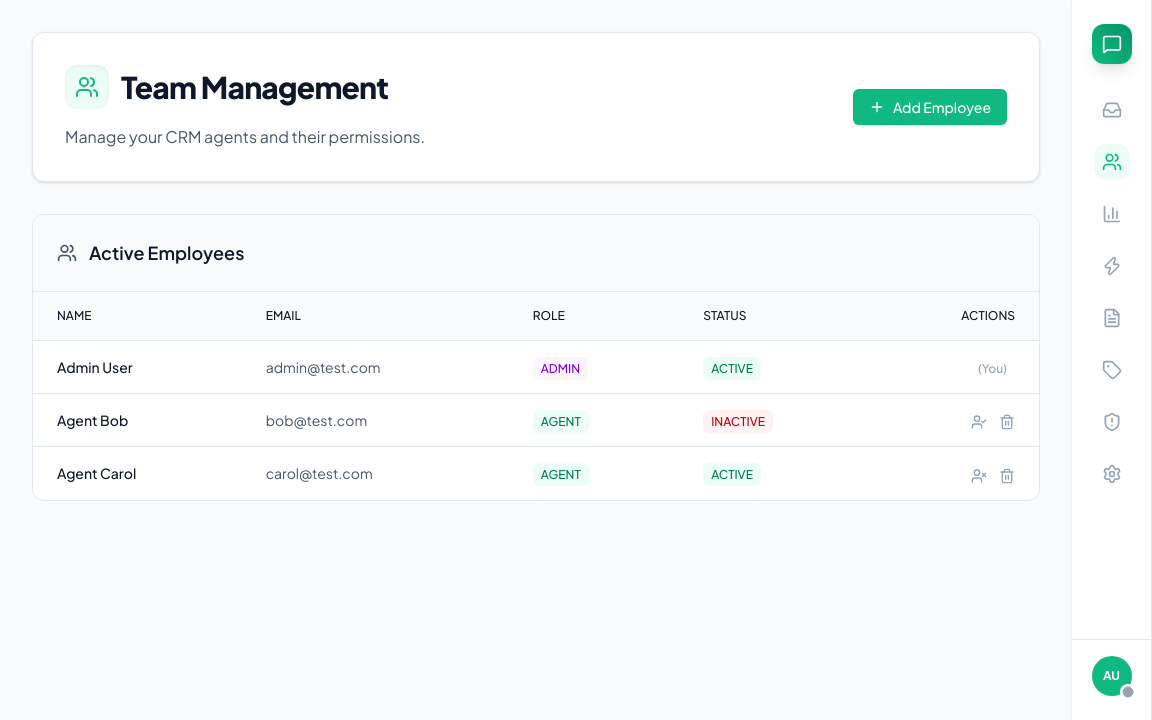
Test: Admin Team Management Page › deletes a team member via the confirmation modal
Check: the text "Agent Bob" is shown, box [33,394,242,447]
Click the button titled "Delete User" in the row of "Agent Bob".
click(1007, 420)  # box [999,410,1015,430]
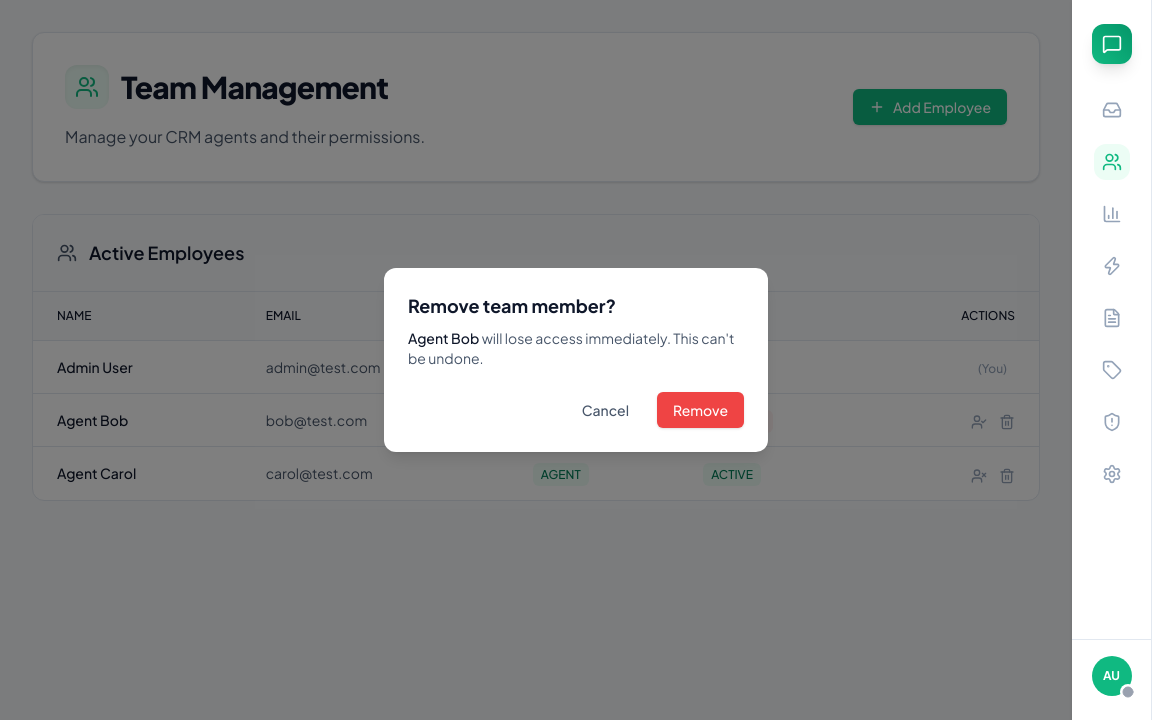
Check: the heading "Remove team member?" is shown, box [408,294,616,317]
Click the button "Remove".
click(700, 410)  # box [657,392,744,428]
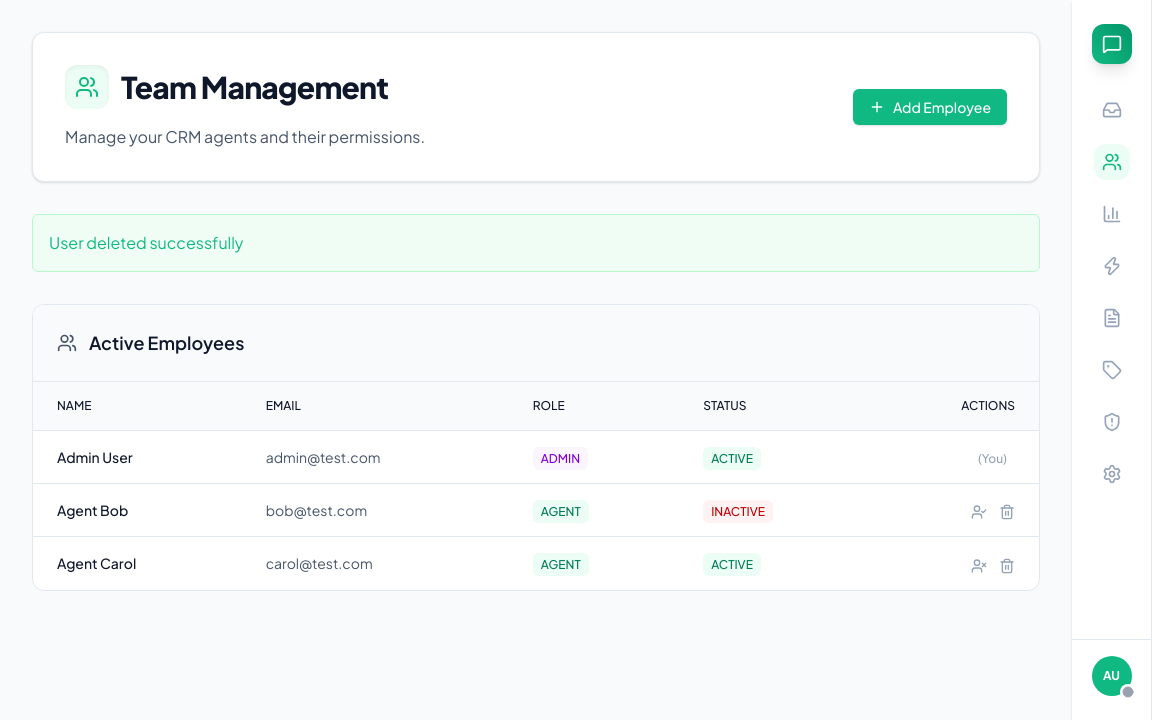
Check: the text "User deleted successfully" is shown, box [32,214,1040,272]
